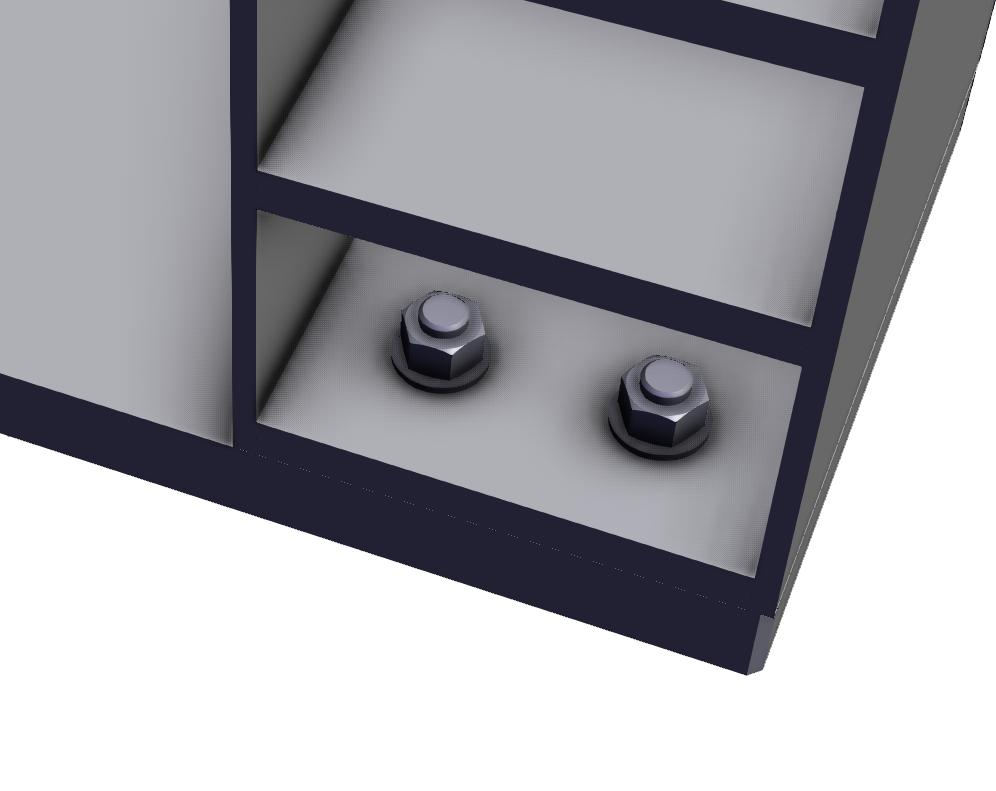bolt_b: (619, 352, 709, 447), (398, 288, 485, 381)
